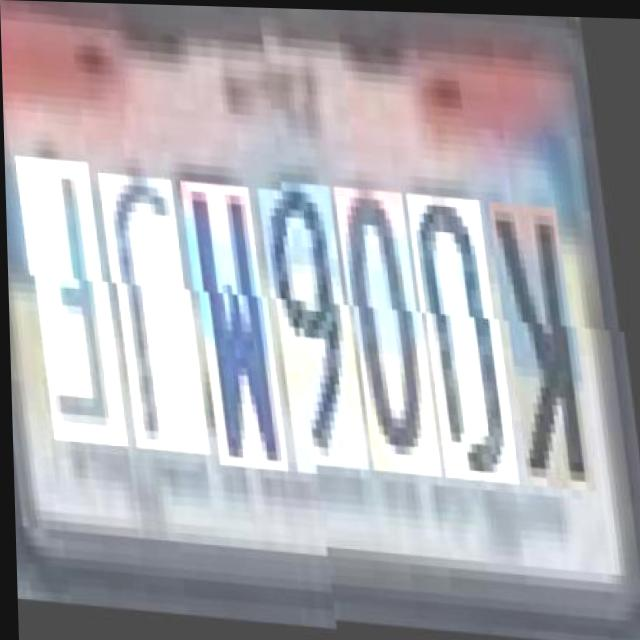0: (415, 194, 514, 483)
6: (265, 183, 365, 472)
f: (23, 156, 123, 443)
j: (105, 171, 205, 451)
k: (497, 200, 592, 489)
m: (187, 177, 284, 466)
o: (342, 187, 438, 476)
